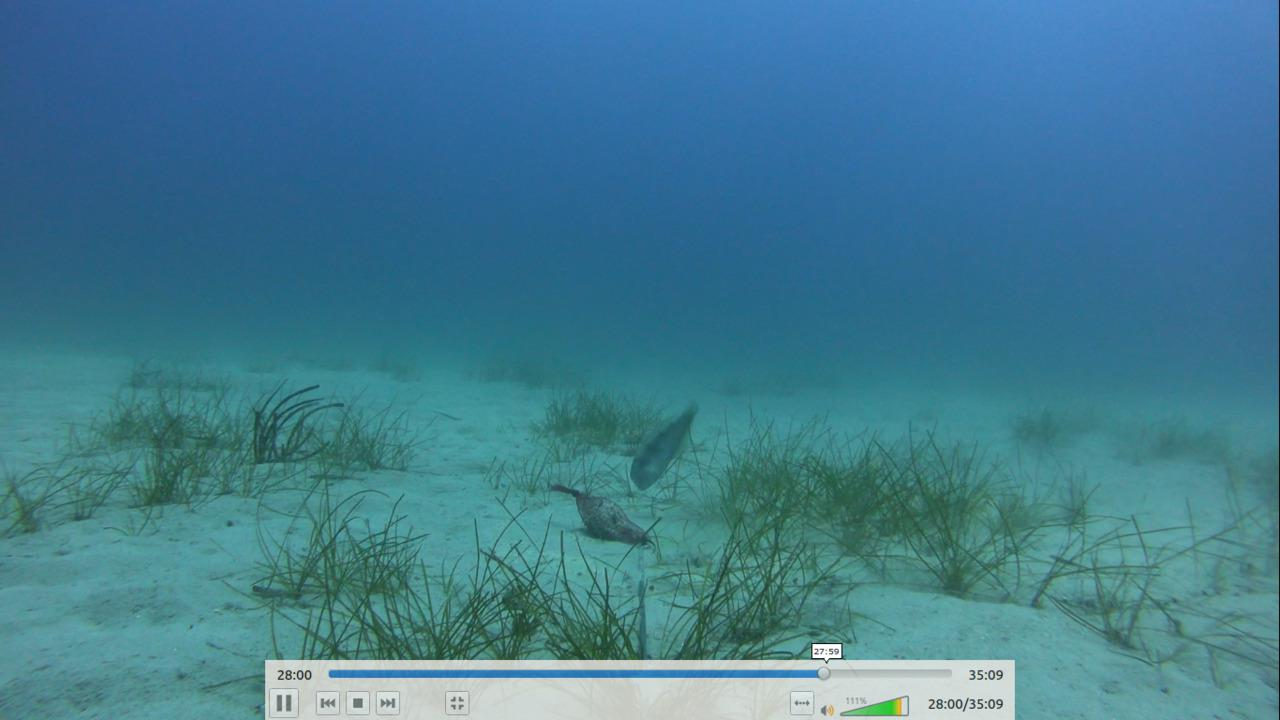raor: (625, 397, 713, 493)
